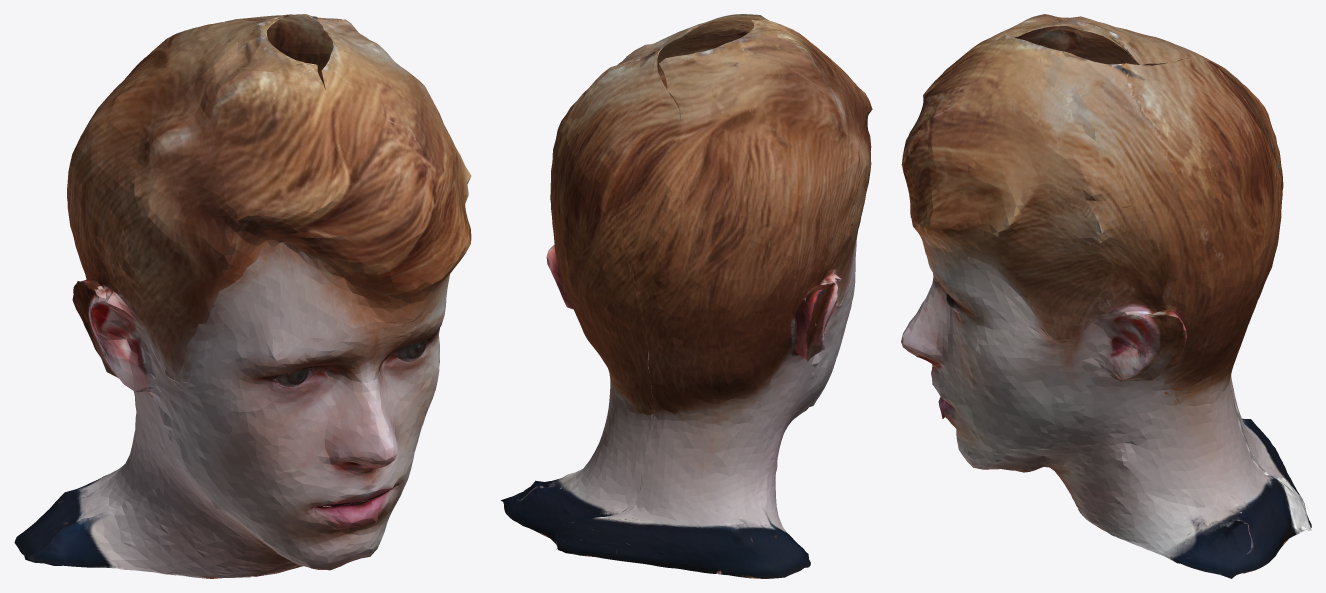
The picture shows the model from 3 angles, left to right: view 1: azimuth 30°, elevation 25°; view 2: azimuth 150°, elevation 25°; view 3: azimuth 270°, elevation 25°; orthographic projection. The views are drawn at different scales.
Bounding box in the file's own units: 1.26 × 1.8 × 1.42.
Materials: 1 (1 with a texture image).
